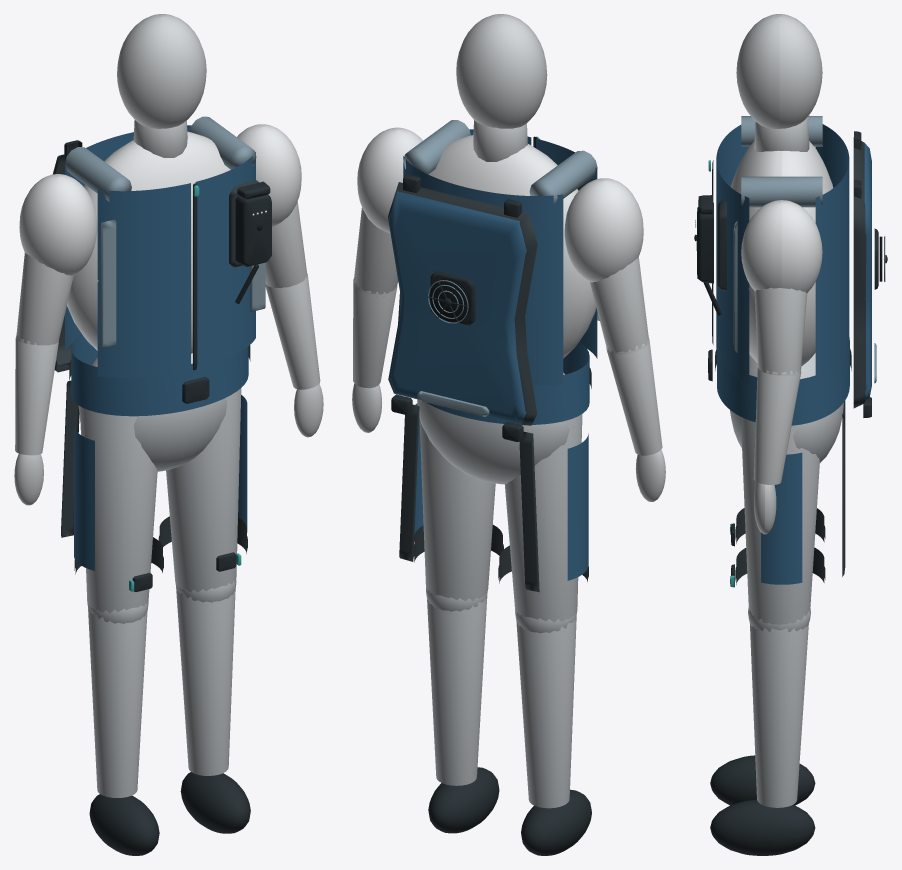
3 views of the same model, side by side, from view 1: azimuth 30°, elevation 25°; view 2: azimuth 150°, elevation 25°; view 3: azimuth 270°, elevation 25° (orthographic).
Visible parts, largest first — view 1: Garment front panel (×2), Trouser leg upper (×2), Trouser leg lower (×2), Shirt sleeve (×2), Faceless presentation mannequin, Forearm (×2), Broad padded waist interface, Neutral shirt torso, Neutral shoe (×2), Upper arm (×2), Neutral trousers pelvis, Long outer-side thigh support panel (×2) (+11 smaller); view 2: Contoured flexible module cover, Trouser leg lower (×2), Trouser leg upper (×2), Shirt sleeve (×2), Faceless presentation mannequin, Garment back carrier, Forearm (×2), Neutral shirt torso, Upper arm (×2), Neutral shoe (×2), Neutral trousers pelvis, Passive posterior transmission band (×2) (+11 smaller); view 3: Trouser leg lower, Faceless presentation mannequin, Garment back carrier, Neutral shoe (×2), Trouser leg upper, Shirt sleeve, Garment front panel (×2), Neutral shirt torso, Long outer-side thigh support panel, Upper arm, Forearm, Broad padded waist interface (+12 smaller).
Part boxes in pixels (x1,y1,x2,y2): Garment front panel (×2): (97,152,255,377); Trouser leg upper (×2): (80,388,241,613); Trouser leg lower (×2): (88,587,235,797); Shirt sleeve (×2): (19,124,301,275); Faceless presentation mannequin: (117,14,206,128); Forearm (×2): (15,274,320,455); Broad padded waist interface: (71,333,248,416); Neutral shirt torso: (67,131,230,353); Neutral shoe (×2): (89,772,250,855); Upper arm (×2): (16,201,307,345); Neutral trousers pelvis: (78,353,227,471); Long outer-side thigh support panel (×2): (74,395,247,570); Contoured flexible module cover: (389,191,526,424); Trouser leg lower (×2): (427,596,576,808); Trouser leg upper (×2): (419,414,582,622); Shirt sleeve (×2): (357,127,643,282); Faceless presentation mannequin: (456,14,547,128); Garment back carrier: (403,156,563,385); Forearm (×2): (353,279,662,455); Neutral shirt torso: (428,135,596,358); Upper arm (×2): (354,208,649,352); Neutral shoe (×2): (428,767,591,855); Neutral trousers pelvis: (417,372,573,484); Passive posterior transmission band (×2): (399,404,539,592); Trouser leg lower: (749,622,808,807); Faceless presentation mannequin: (736,14,822,128); Garment back carrier: (815,124,849,383); Neutral shoe (×2): (710,755,815,855); Trouser leg upper: (741,417,819,624); Shirt sleeve: (741,200,822,292); Garment front panel (×2): (716,125,749,384); Neutral shirt torso: (730,141,833,366); Long outer-side thigh support panel: (761,452,802,584); Upper arm: (754,287,807,374); Forearm: (753,367,801,484); Broad padded waist interface: (717,337,849,425).
Size of the model in its own units: 0.74 by 1.88 by 0.404.
